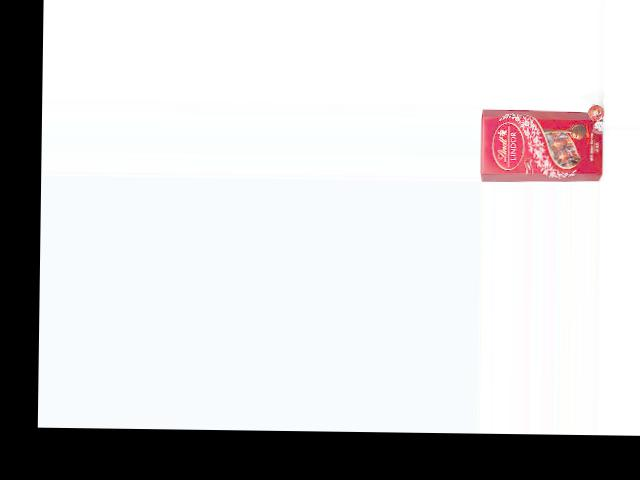chocolate: (480, 102, 603, 181)
